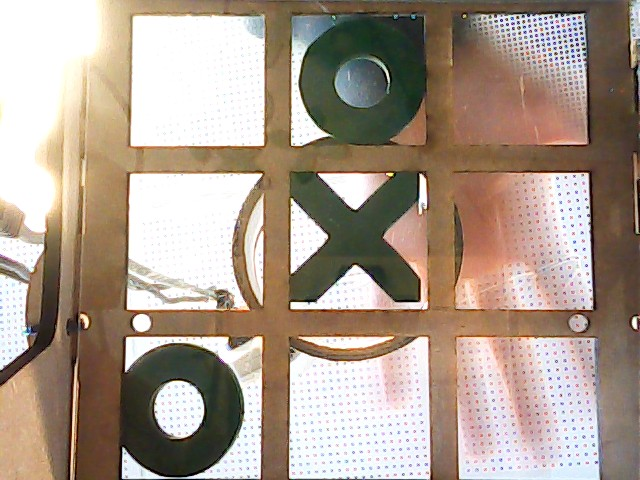O: (121, 337, 243, 480), (301, 18, 424, 143)
X: (290, 172, 424, 308)
